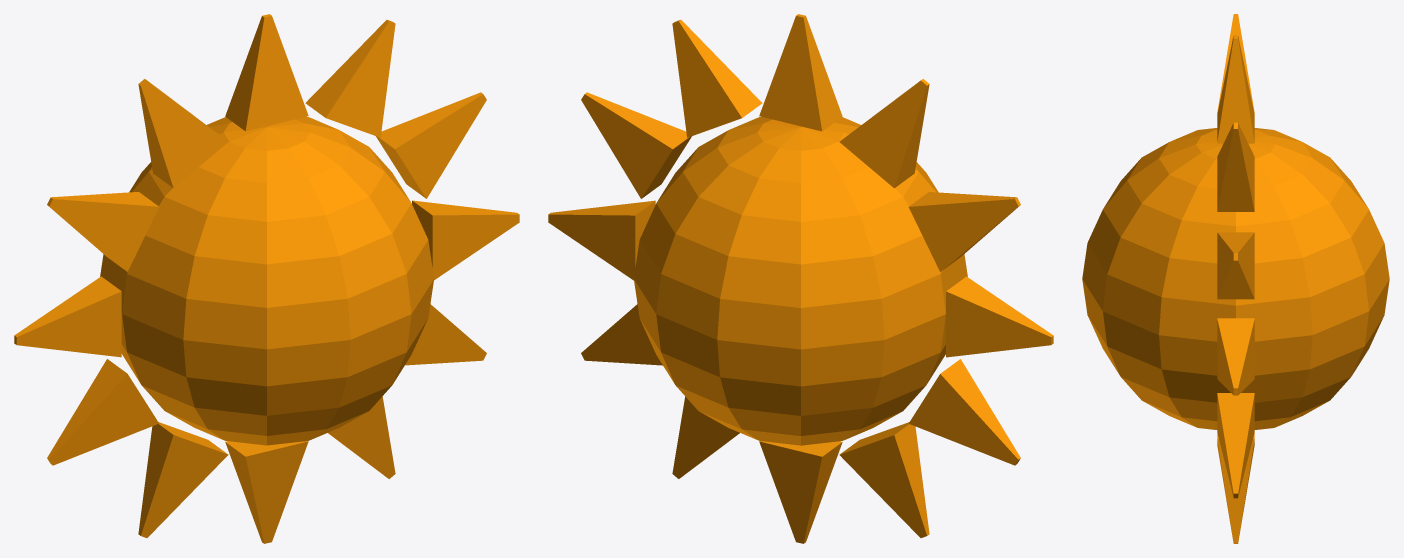
File: sun.gltf
3 renders of one model, left to right at view 1: azimuth 30°, elevation 25°; view 2: azimuth 150°, elevation 25°; view 3: azimuth 270°, elevation 25°, orthographic. The views are drawn at different scales.
Visible parts, largest first — view 1: Object_4; view 2: Object_4; view 3: Object_4.
Boxes of the visible parts, x1,y1,x2,y2 form: Object_4: (14, 14, 519, 543); Object_4: (548, 14, 1053, 543); Object_4: (1082, 14, 1389, 543).
Bounding box in the file's own units: 3.47 × 3.47 × 2.
